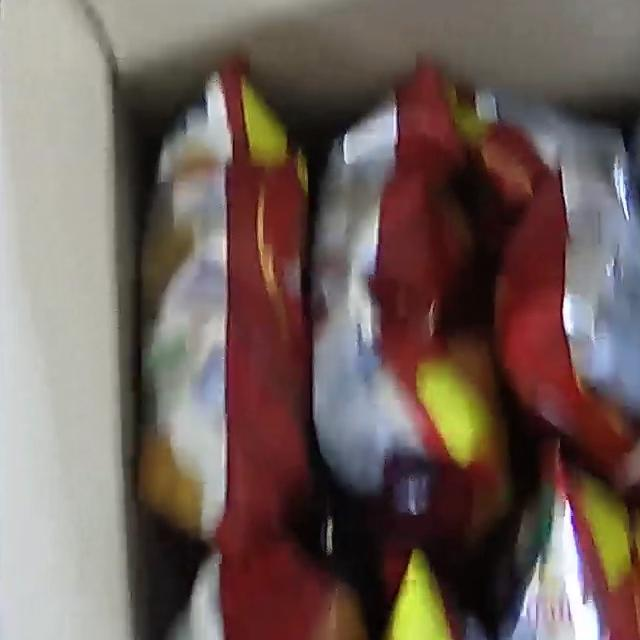masala: (131, 18, 640, 640)
